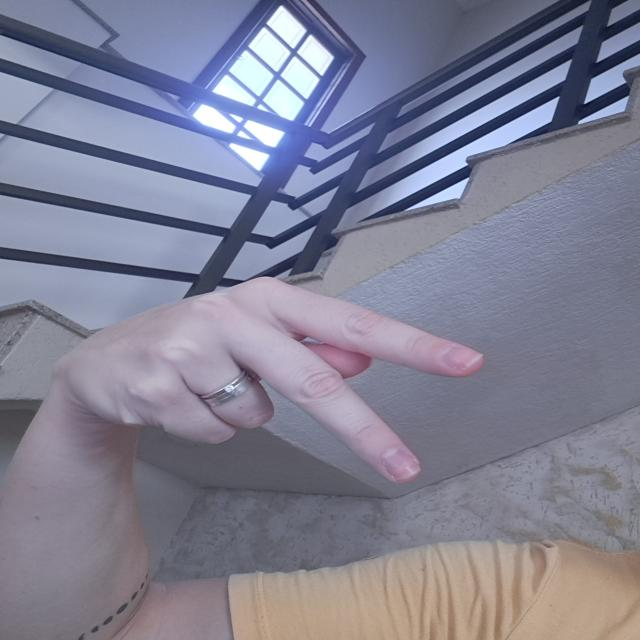P: (60, 271, 502, 496)
